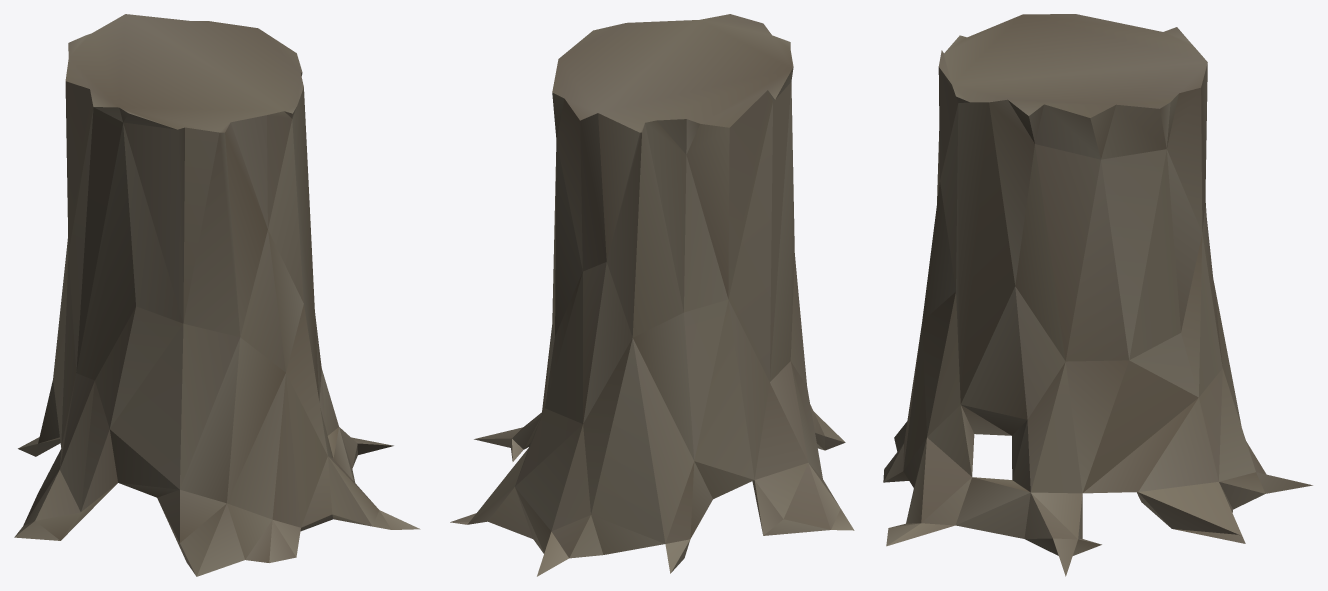
The model's file is elm_stump.glb.
3 renders of one model, left to right at view 1: azimuth 30°, elevation 25°; view 2: azimuth 150°, elevation 25°; view 3: azimuth 270°, elevation 25°, orthographic.
Visible parts, largest first — view 1: Stump; view 2: Stump; view 3: Stump.
Part boxes in pixels (x1=…): Stump: x1=14, y1=14, x2=420, y2=576; Stump: x1=450, y1=14, x2=854, y2=576; Stump: x1=883, y1=14, x2=1312, y2=576.
Bounding box in the file's own units: 0.7555 × 0.8148 × 0.7515.
